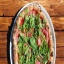basil: (36, 42, 51, 61), (18, 34, 31, 55), (20, 14, 36, 31), (31, 30, 37, 54)
ham: (41, 27, 49, 41), (35, 34, 44, 46)
pizza: (10, 3, 54, 64)
